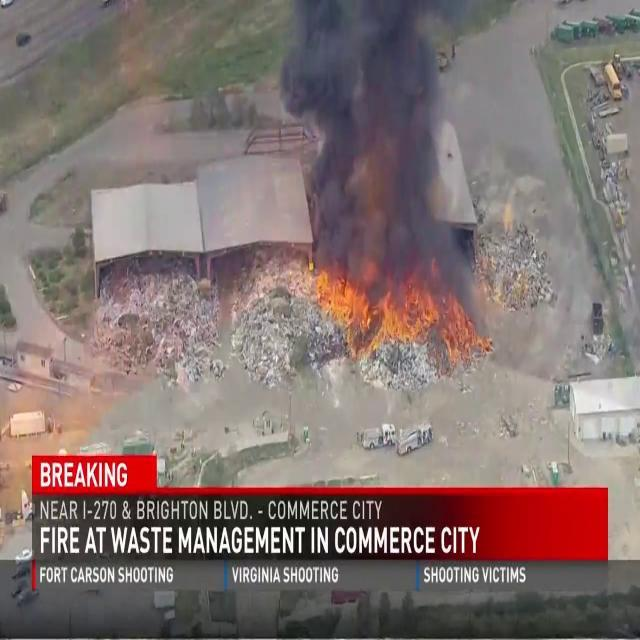Fire: (303, 261, 486, 363)
Smoke: (273, 1, 477, 290)
